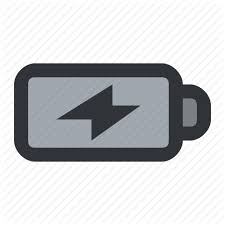charging sign: (10, 54, 203, 163)
